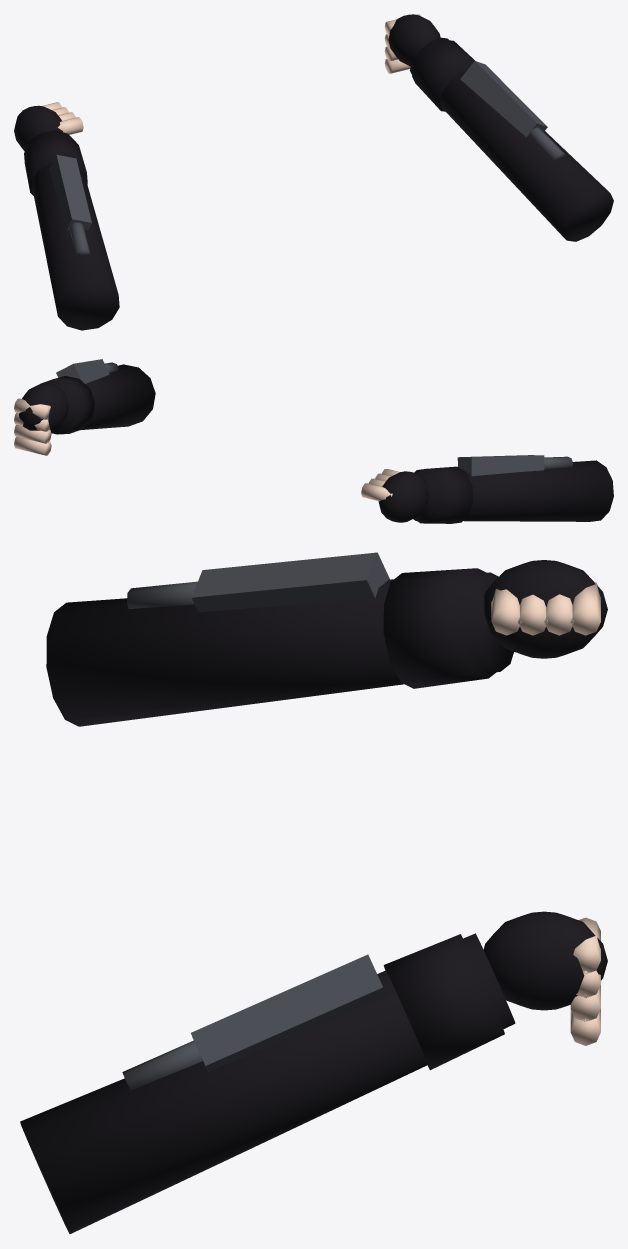
The model's file is fp_meia.glb.
3 renders of one model, top to bottom at view 1: azimuth 30°, elevation 25°; view 2: azimuth 150°, elevation 25°; view 3: azimuth 270°, elevation 25°, orthographic. The views are drawn at different scales.
Parts seen in each view (by area): view 1: ArmR, ArmL; view 2: ArmL, ArmR; view 3: ArmR, ArmL.
Boxes of the visible parts, x1,y1,x2,y2 form: ArmR: (384,14,613,241); ArmL: (14,102,119,330); ArmL: (361,455,613,523); ArmR: (14,359,155,455); ArmR: (20,911,607,1233); ArmL: (46,552,607,726).
Size of the model in its own units: 0.875 by 0.2171 by 0.4239.
